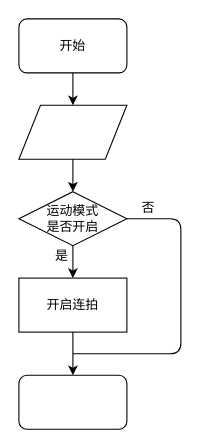
Image size: 201x448. Some labels were removed from this diagram. Here are the shapes that lost their labels. From the top down, the box of each, then its label:
(18, 104, 127, 159): 选择模式
(18, 374, 127, 429): 结束
